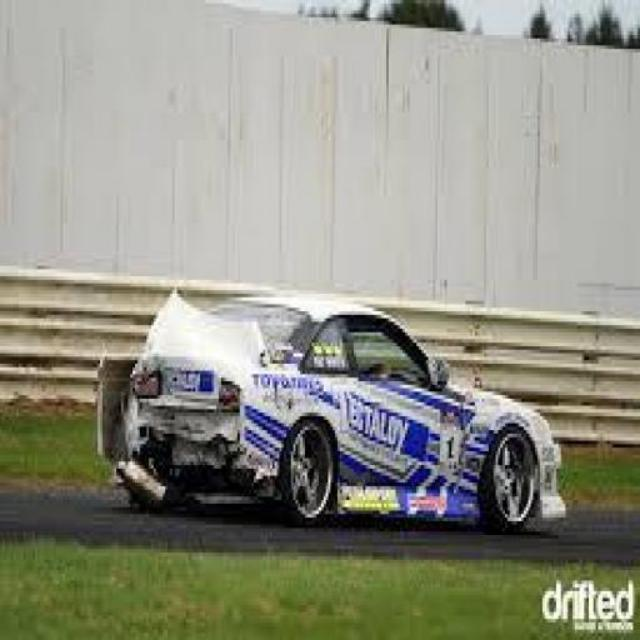crash: (100, 285, 275, 500)
